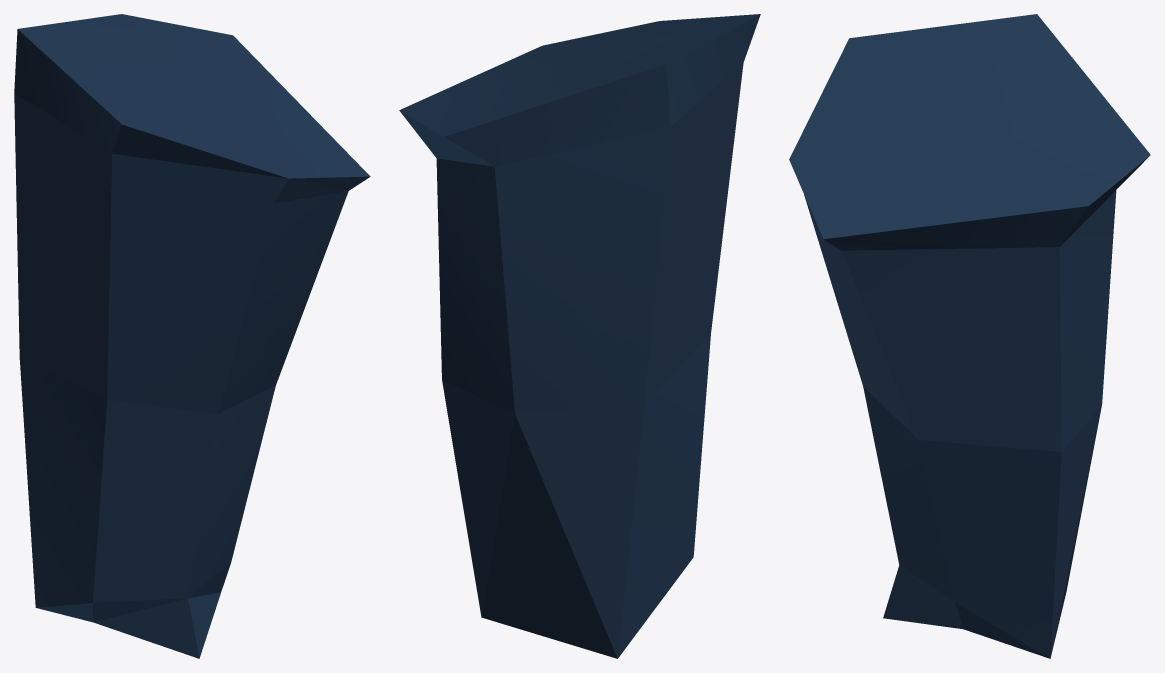
The model's file is Knee_R_Cop.glb.
3 renders of one model, left to right at view 1: azimuth 30°, elevation 25°; view 2: azimuth 150°, elevation 25°; view 3: azimuth 270°, elevation 25°, orthographic. The views are drawn at different scales.
Visible parts, largest first — view 1: Leg_R_Cop; view 2: Leg_R_Cop; view 3: Leg_R_Cop.
Boxes of the visible parts, bbox=[...] form: Leg_R_Cop: bbox=[14, 14, 370, 658]; Leg_R_Cop: bbox=[399, 14, 760, 658]; Leg_R_Cop: bbox=[789, 14, 1150, 658].
Bounding box in the file's own units: 0.1779 × 0.4125 × 0.2405.
1 material, 1 textured.
